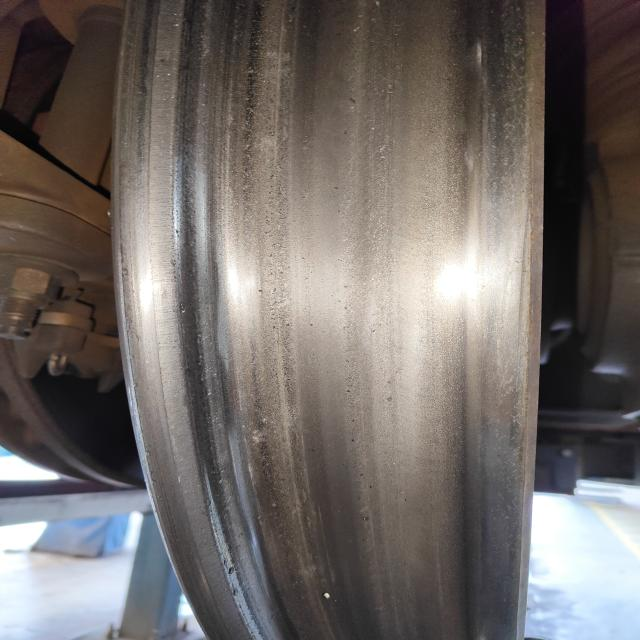Contact_Fatigue_Cracks: (268, 167, 298, 410), (174, 184, 189, 312), (220, 545, 243, 605), (209, 500, 218, 537)
